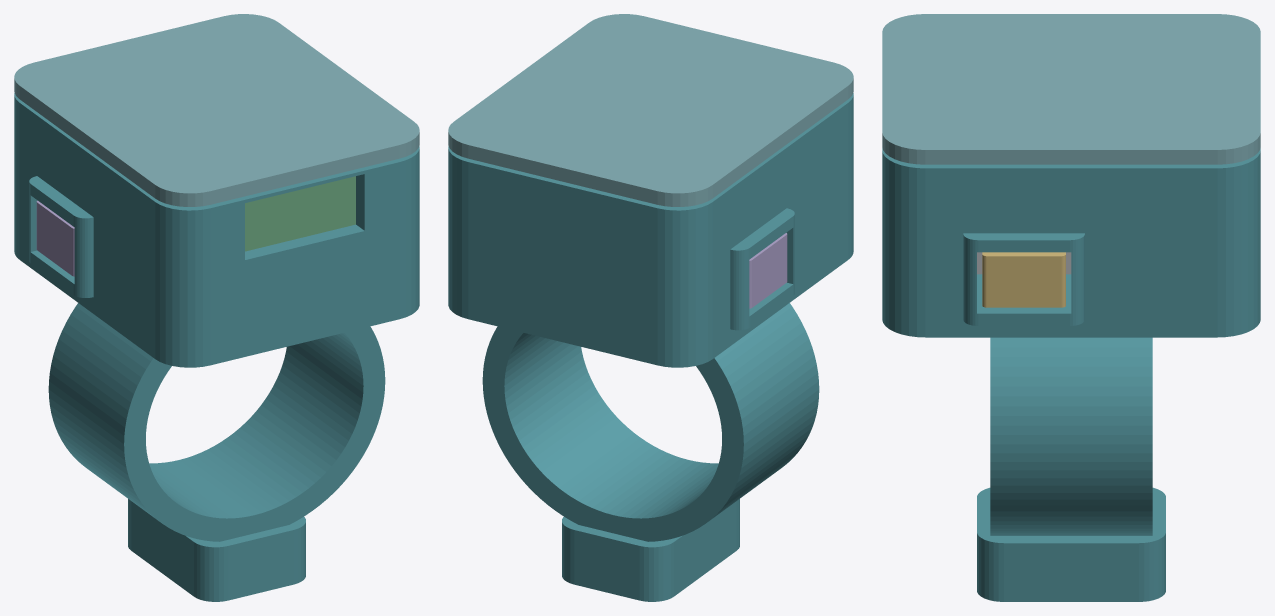
The model's file is Left_3Button.glb.
The picture shows the model from 3 angles, left to right: view 1: azimuth 30°, elevation 25°; view 2: azimuth 150°, elevation 25°; view 3: azimuth 270°, elevation 25°; orthographic projection. The views are drawn at different scales.
Parts seen in each view (by area): view 1: Band_Pod, Lift_Off_Lid, Board_Envelope, Far_Side_Cap; view 2: Band_Pod, Lift_Off_Lid, Far_Side_Cap; view 3: Band_Pod, Lift_Off_Lid, Thumb_Click_Cap.
Boxes of the visible parts, <box> form: Band_Pod: <box>14,93,419,601</box>; Lift_Off_Lid: <box>14,14,419,206</box>; Board_Envelope: <box>245,176,355,251</box>; Far_Side_Cap: <box>36,200,74,276</box>; Band_Pod: <box>448,93,853,601</box>; Lift_Off_Lid: <box>448,14,853,206</box>; Far_Side_Cap: <box>749,233,787,308</box>; Band_Pod: <box>882,148,1260,601</box>; Lift_Off_Lid: <box>882,14,1260,164</box>; Thumb_Click_Cap: <box>982,252,1065,307</box>.
Bounding box in the file's own units: 0.0262 × 0.0407 × 0.028.
